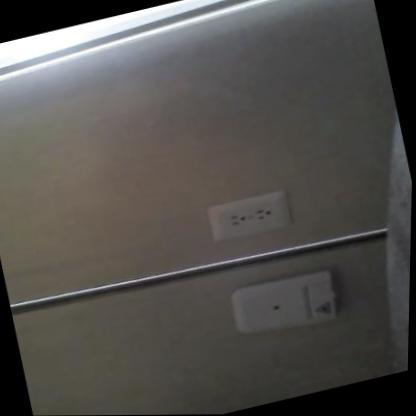OUTLET: (206, 189, 290, 243)
